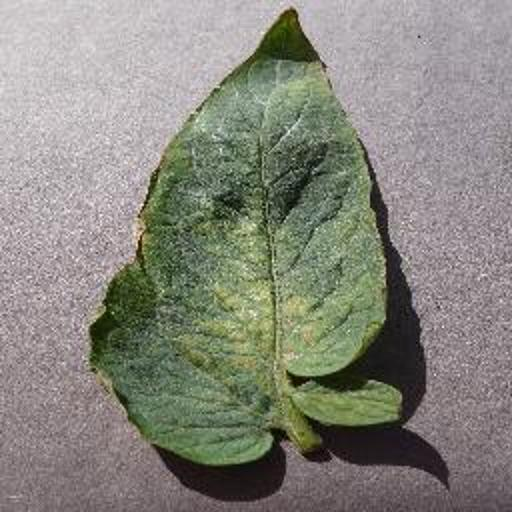Spider Mite: (69, 0, 462, 483)
